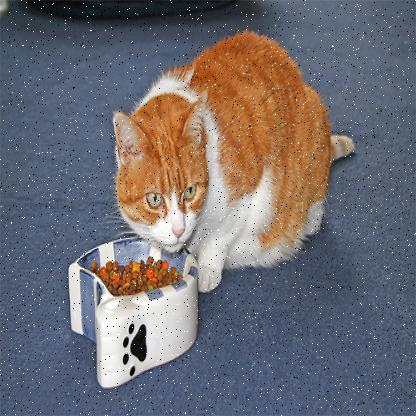cat: (114, 23, 342, 283)
